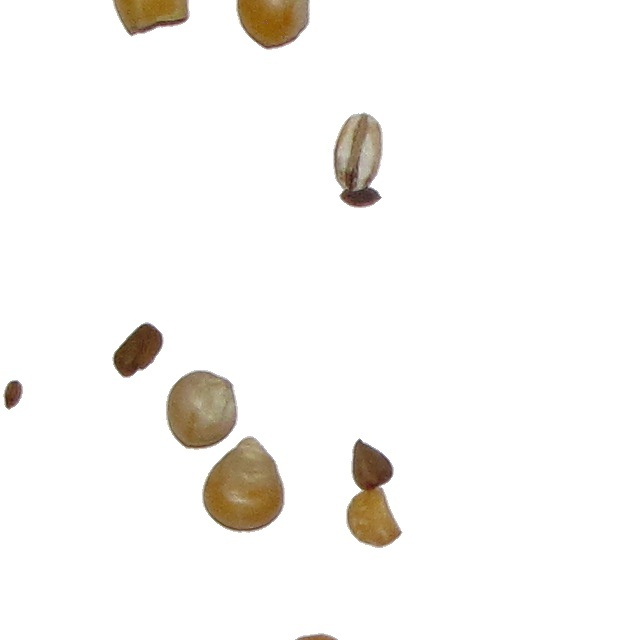buckwheat: (111, 321, 165, 379)
mais: (201, 435, 286, 534), (165, 369, 239, 451), (345, 484, 394, 549), (278, 632, 352, 640)
other: (332, 111, 384, 209), (2, 379, 24, 411)
